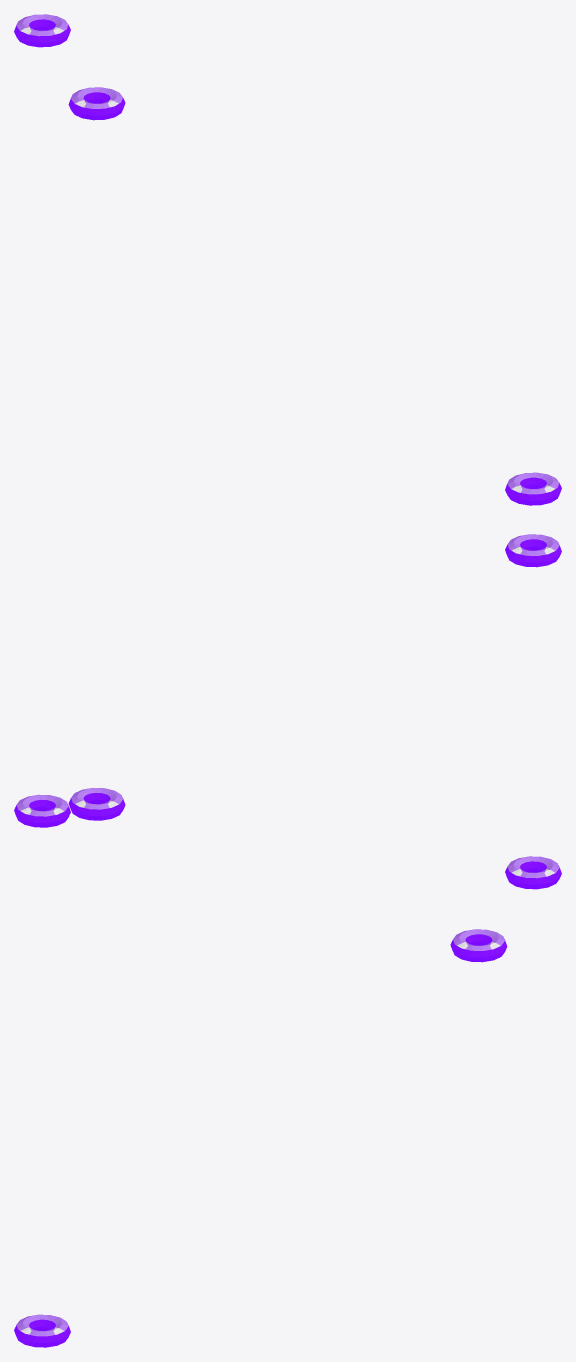
Rendered from GJump lvl10.fbx.
3 renders of one model, top to bottom at view 1: azimuth 30°, elevation 25°; view 2: azimuth 150°, elevation 25°; view 3: azimuth 330°, elevation 25°, orthographic.
Parts seen in each view (by area): view 1: AirJump.030, AirJump.033, AirJump.031; view 2: AirJump.030, AirJump.033, AirJump.031; view 3: AirJump.030, AirJump.033, AirJump.031.
Part boxes in pixels (x1=…): AirJump.030: x1=505, y1=472, x2=561, y2=505; AirJump.033: x1=14, y1=14, x2=70, y2=47; AirJump.031: x1=68, y1=87, x2=125, y2=120; AirJump.030: x1=505, y1=534, x2=561, y2=567; AirJump.033: x1=14, y1=794, x2=70, y2=827; AirJump.031: x1=68, y1=788, x2=125, y2=820; AirJump.030: x1=14, y1=1314, x2=70, y2=1347; AirJump.033: x1=505, y1=856, x2=561, y2=889; AirJump.031: x1=450, y1=929, x2=507, y2=962.
Bounding box in the file's own units: 157 × 348 × 2853.
